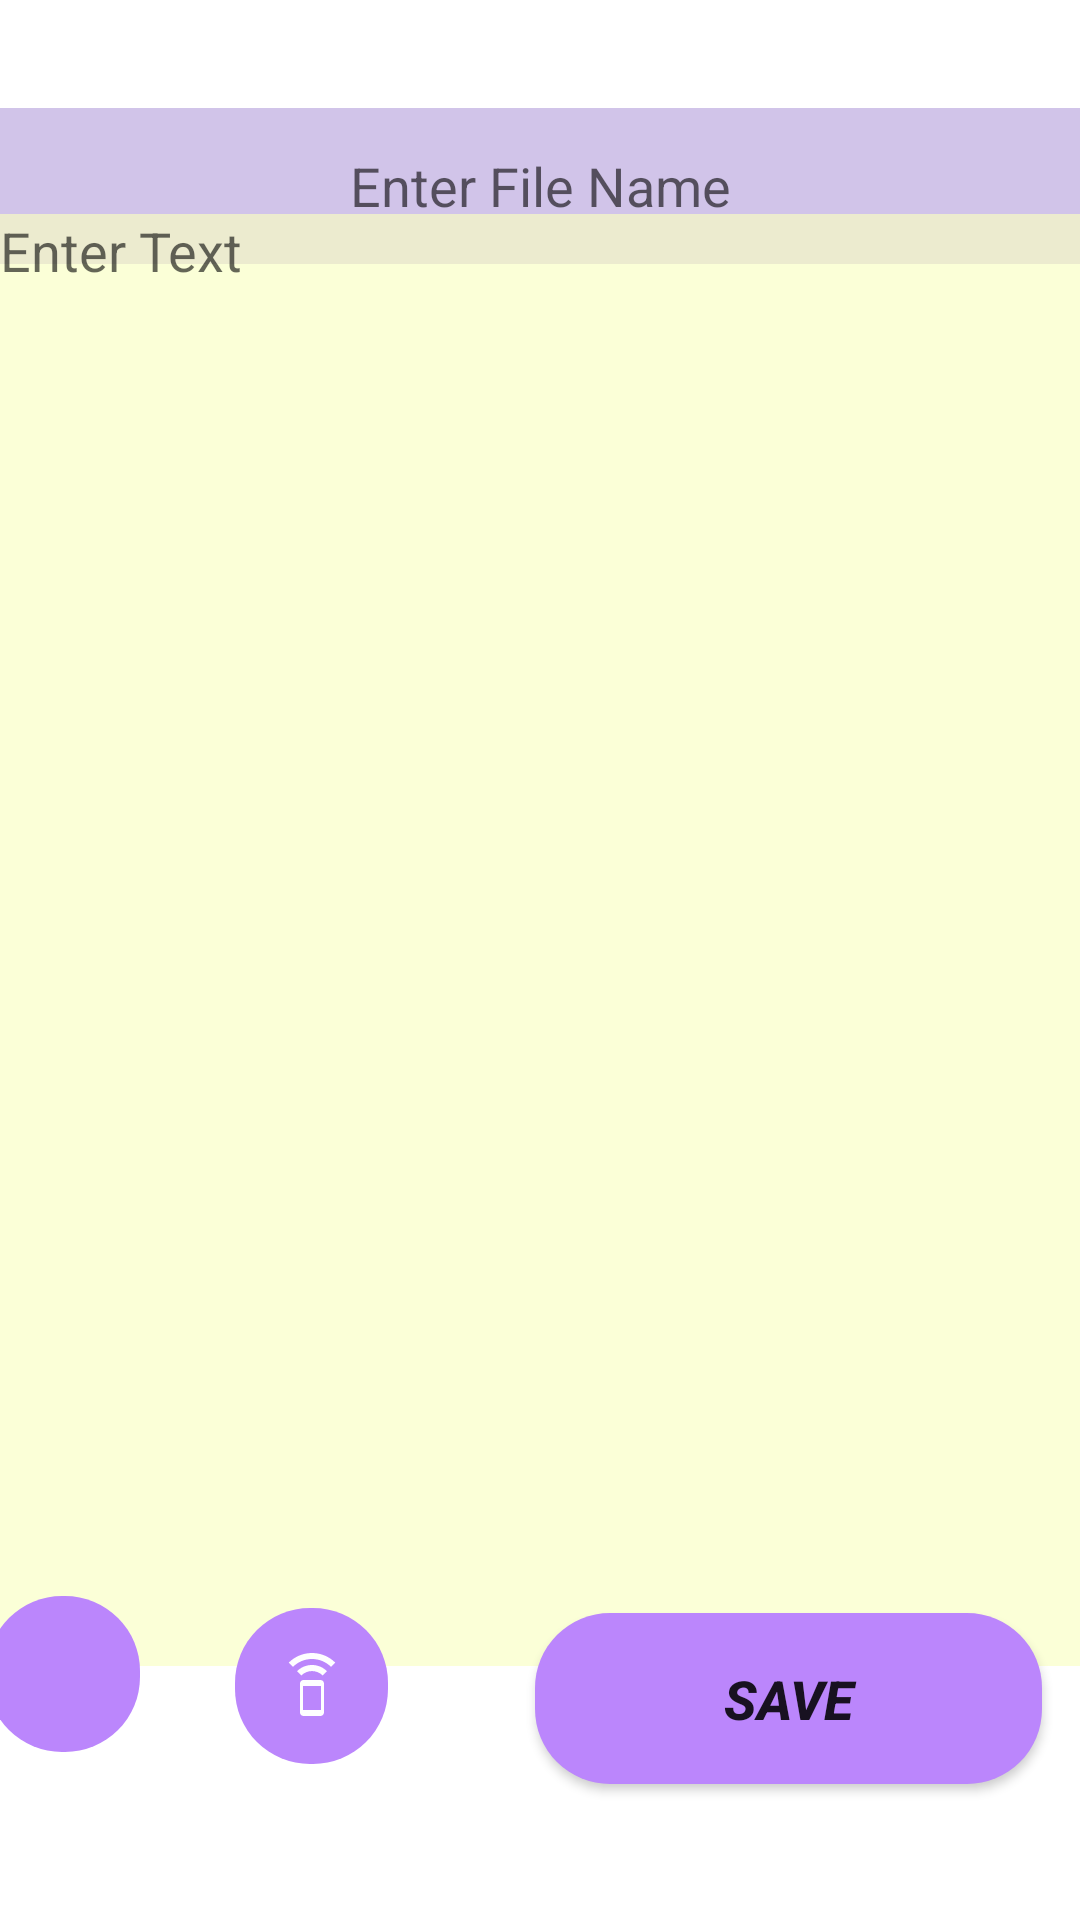

Where to tap for icons on this 1080 x 1920 app screen, as [x,y]:
speaker phone: [311,1686]
